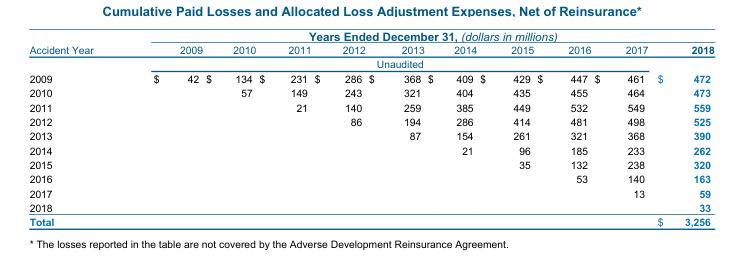table: (28, 29, 713, 227)
table column: (28, 29, 122, 227), (122, 29, 203, 227), (652, 29, 713, 227), (592, 29, 652, 227), (366, 29, 425, 227), (534, 29, 592, 227), (477, 29, 534, 227), (256, 29, 312, 227), (312, 29, 366, 227), (203, 29, 256, 227), (425, 29, 477, 227)
table column header: (28, 29, 713, 71)
table row: (28, 56, 713, 71), (28, 99, 713, 114), (28, 142, 713, 157), (28, 185, 713, 200), (28, 42, 713, 56), (28, 71, 713, 85), (28, 85, 713, 99), (28, 114, 713, 128), (28, 128, 713, 142), (28, 157, 713, 171), (28, 171, 713, 185), (28, 200, 713, 214), (28, 29, 713, 42), (28, 214, 713, 227)
table spanning cell: (122, 56, 652, 71), (122, 29, 713, 42), (28, 29, 122, 71), (652, 42, 713, 71)
